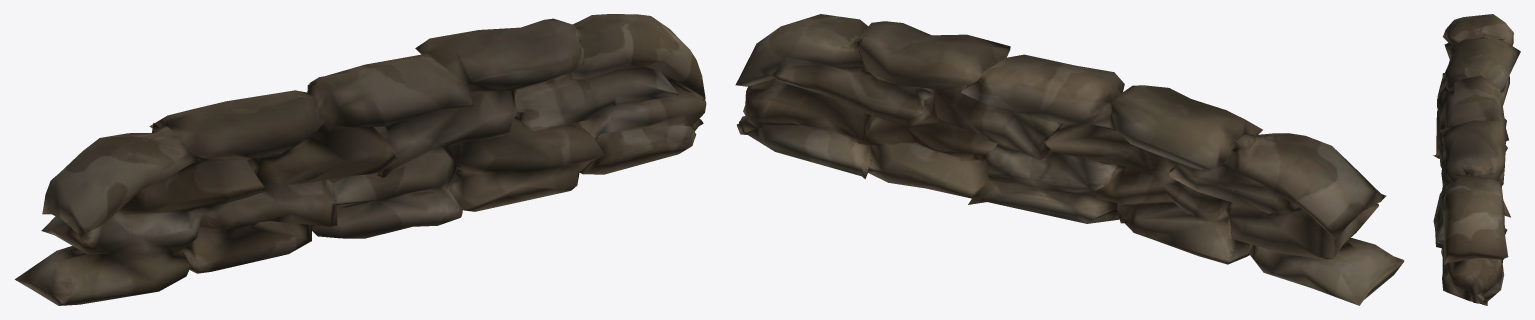
File: p_sandbags.glb
The picture shows the model from 3 angles, left to right: view 1: azimuth 30°, elevation 25°; view 2: azimuth 150°, elevation 25°; view 3: azimuth 270°, elevation 25°; orthographic projection. The views are drawn at different scales.
Parts seen in each view (by area): view 1: SM_SBFlat; view 2: SM_SBFlat; view 3: SM_SBFlat.
Boxes of the visible parts, box(x1,y1,x2,y2) form: SM_SBFlat: box(15, 14, 706, 305); SM_SBFlat: box(735, 14, 1404, 305); SM_SBFlat: box(1433, 14, 1520, 305).
Bounding box in the file's own units: 4.56 × 1.02 × 0.7348.
1 material, 1 textured.
